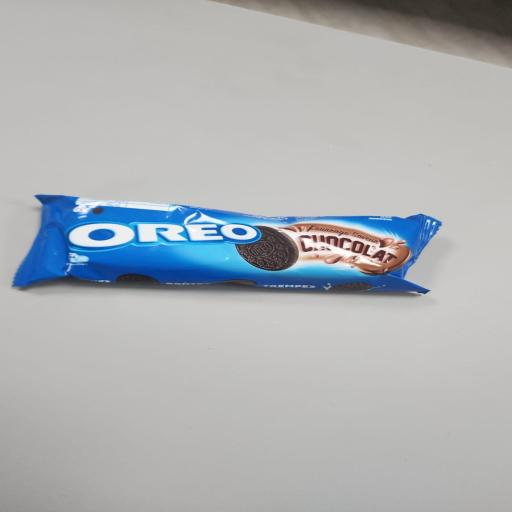oreo: (6, 146, 506, 334)
